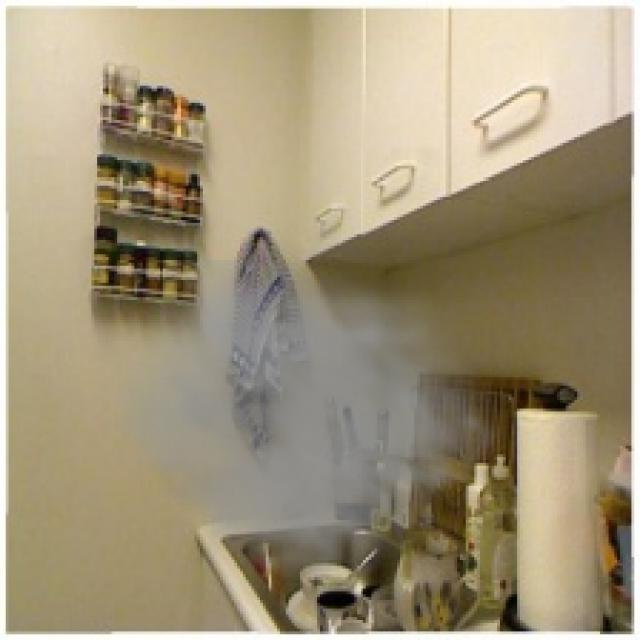smoke: (94, 260, 517, 617)
